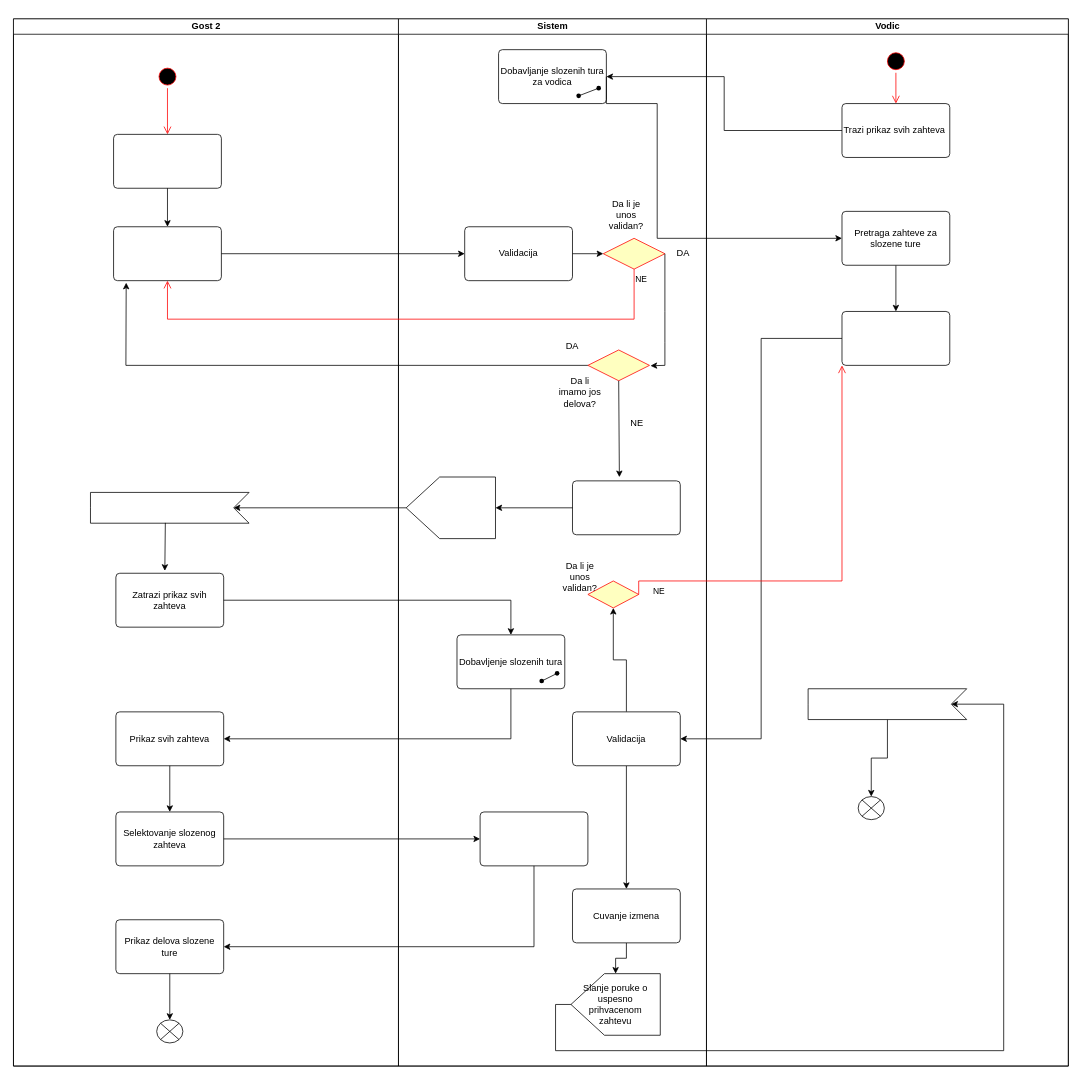
The diagram is 1082 pixels wide and 1080 high, and some of its shapes have lost their labels. The centre of each missing label's shape, as x and y in pixels:
"Cuvanje zahteva za slozenu turu" belongs at point (626, 507).
"Dobavljenje delova slozene ture" belongs at point (533, 838).
"Slanje poruke o kreiranju zahteva" belongs at point (450, 507).
"Trazi kreiranje novog foruma" belongs at point (167, 161).
"Unos lokacije" belongs at point (167, 253).
"Unosi datum i vreme" belongs at point (895, 338).
"Uspesno kreiran zahtev" belongs at point (169, 507).
"Uspesno prihvacen zahtev" belongs at point (887, 704).
